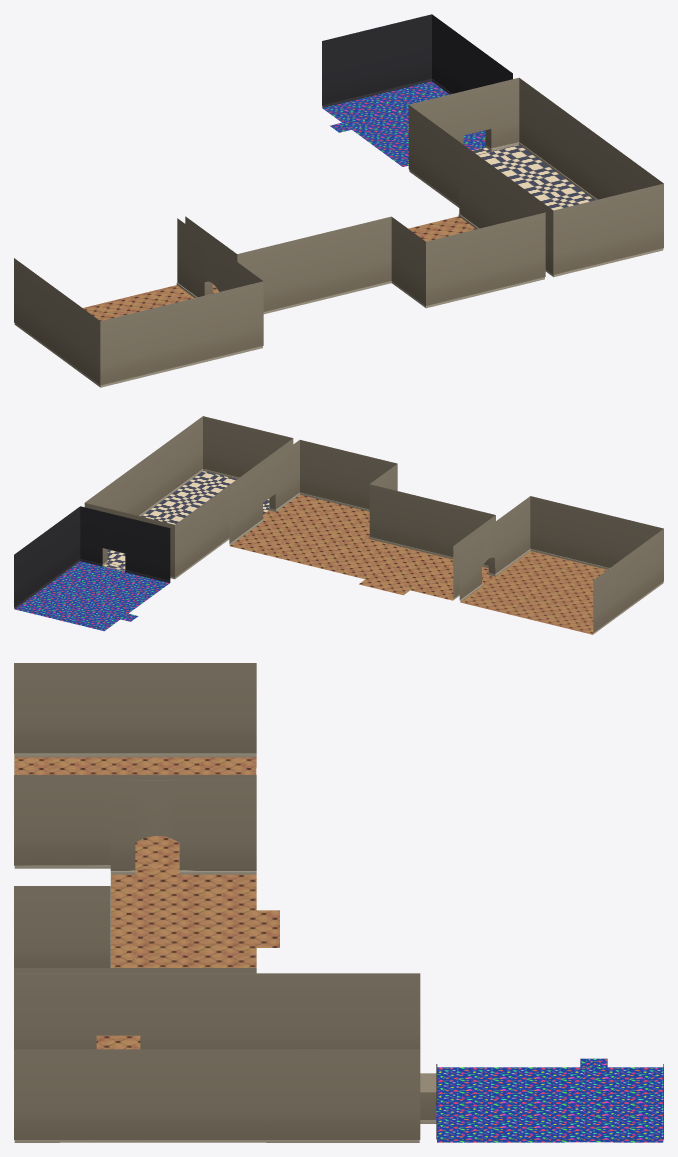
The model's file is L building interior.fbx.
3 renders of one model, top to bottom at view 1: azimuth 30°, elevation 25°; view 2: azimuth 150°, elevation 25°; view 3: azimuth 270°, elevation 25°, orthographic. The views are drawn at different scales.
Parts seen in each view (by area): view 1: L building Interior; view 2: L building Interior; view 3: L building Interior.
Part boxes in pixels (<box>): L building Interior: <box>14,14,663,387</box>; L building Interior: <box>14,416,663,634</box>; L building Interior: <box>14,663,663,1142</box>.
Size of the model in its own units: 93.73 by 10.63 by 66.68.
